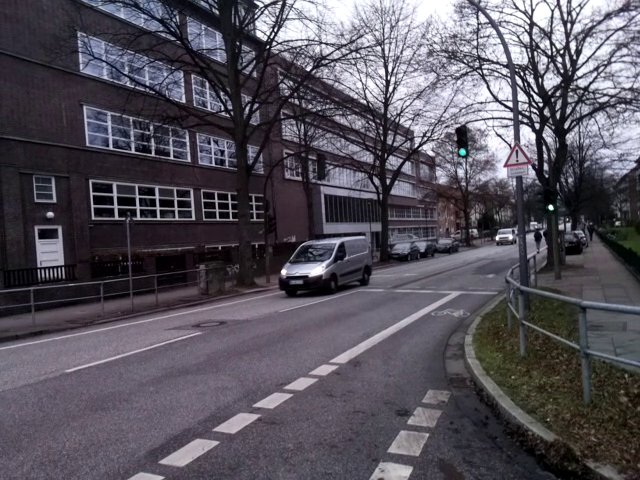car: (278, 236, 381, 297)
